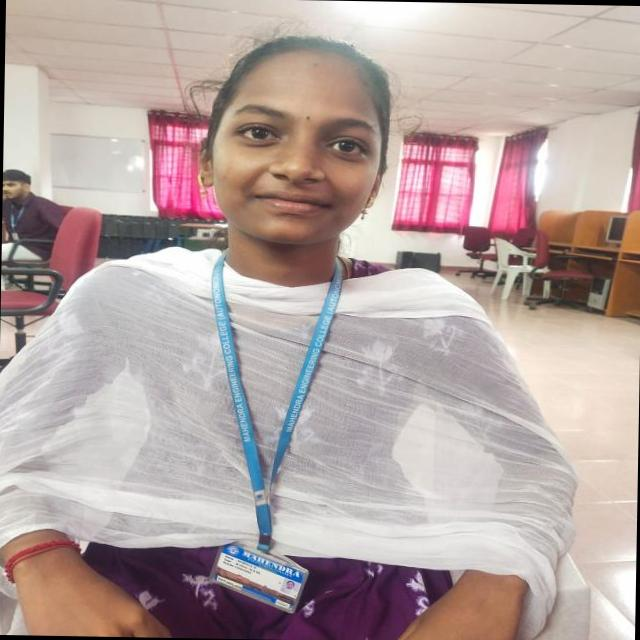id_card: (204, 244, 348, 616)
